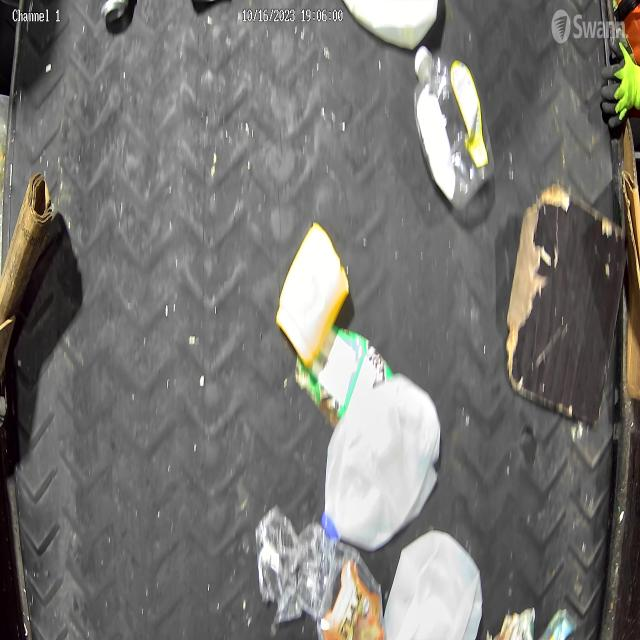can: (100, 0, 127, 28)
milk_jug: (323, 379, 441, 548), (386, 530, 484, 640)
plastic_bottle: (410, 44, 498, 209)
